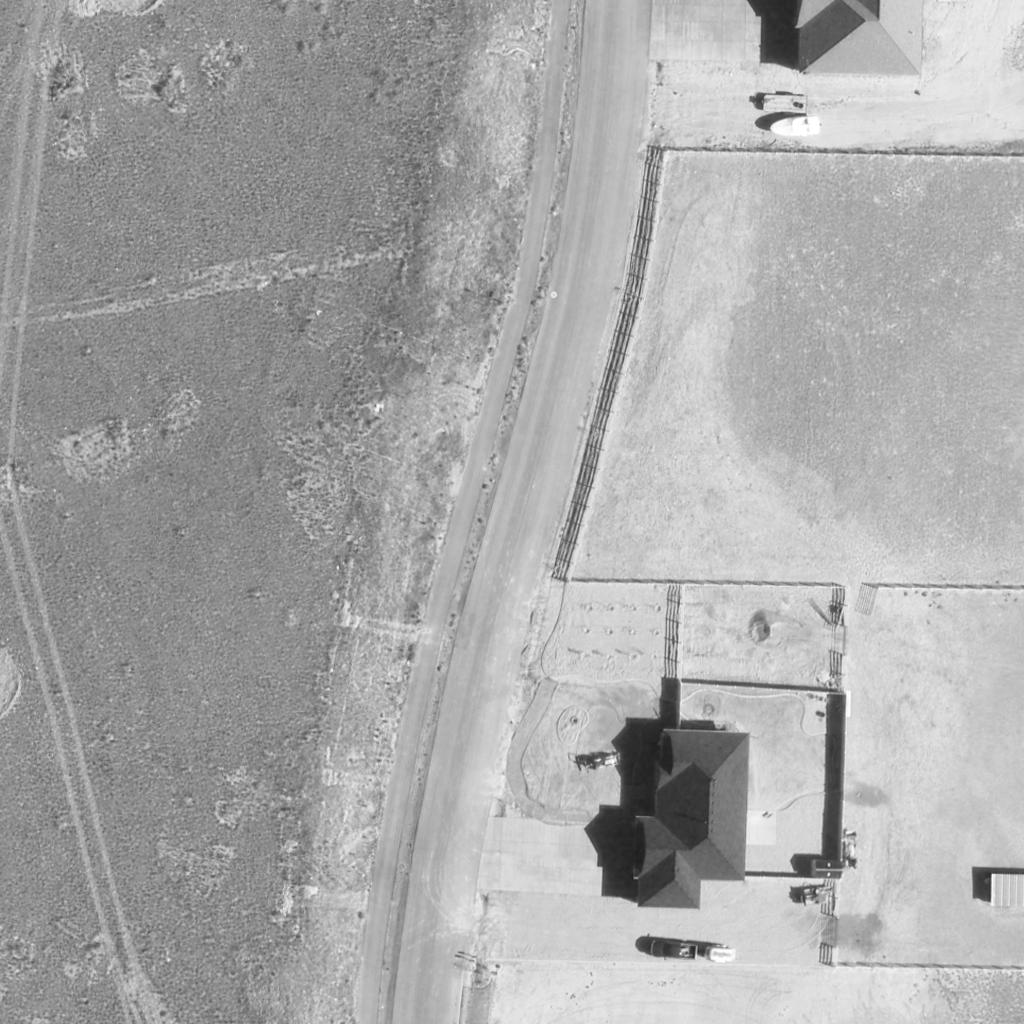vehicle: (579, 749, 625, 775), (646, 938, 698, 960), (769, 118, 821, 136), (844, 829, 862, 871)
